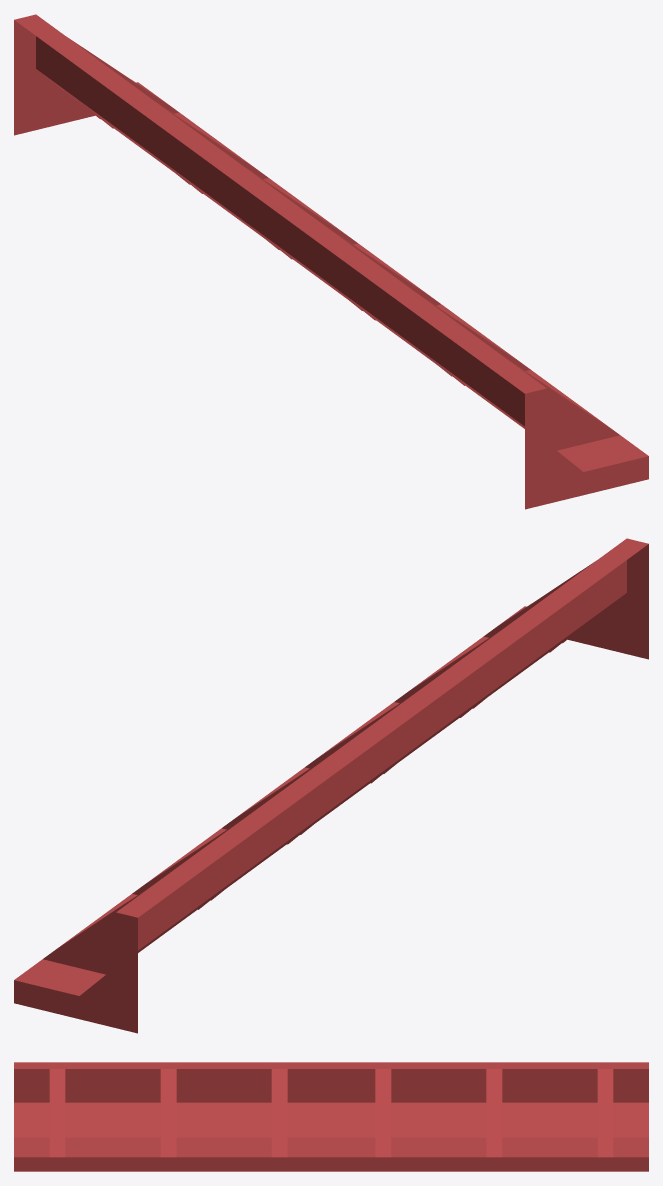
File: SM_VALVE_CURB.fbx
3 renders of one model, top to bottom at view 1: azimuth 30°, elevation 25°; view 2: azimuth 150°, elevation 25°; view 3: azimuth 270°, elevation 25°, orthographic. The views are drawn at different scales.
Parts seen in each view (by area): view 1: SM_VALVE_CURB; view 2: SM_VALVE_CURB; view 3: SM_VALVE_CURB.
Part boxes in pixels (x1,y1,x2,y2): SM_VALVE_CURB: (14, 14, 648, 509); SM_VALVE_CURB: (14, 538, 648, 1033); SM_VALVE_CURB: (14, 1062, 648, 1171).
Bounding box in the file's own units: 0.5608 × 0.5 × 4.
